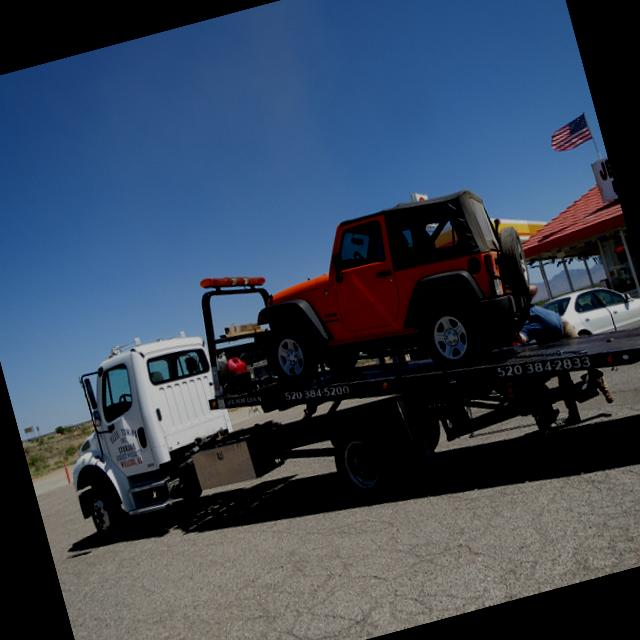Vehicle: (44, 279, 448, 575), (238, 180, 550, 415), (537, 271, 640, 355)
